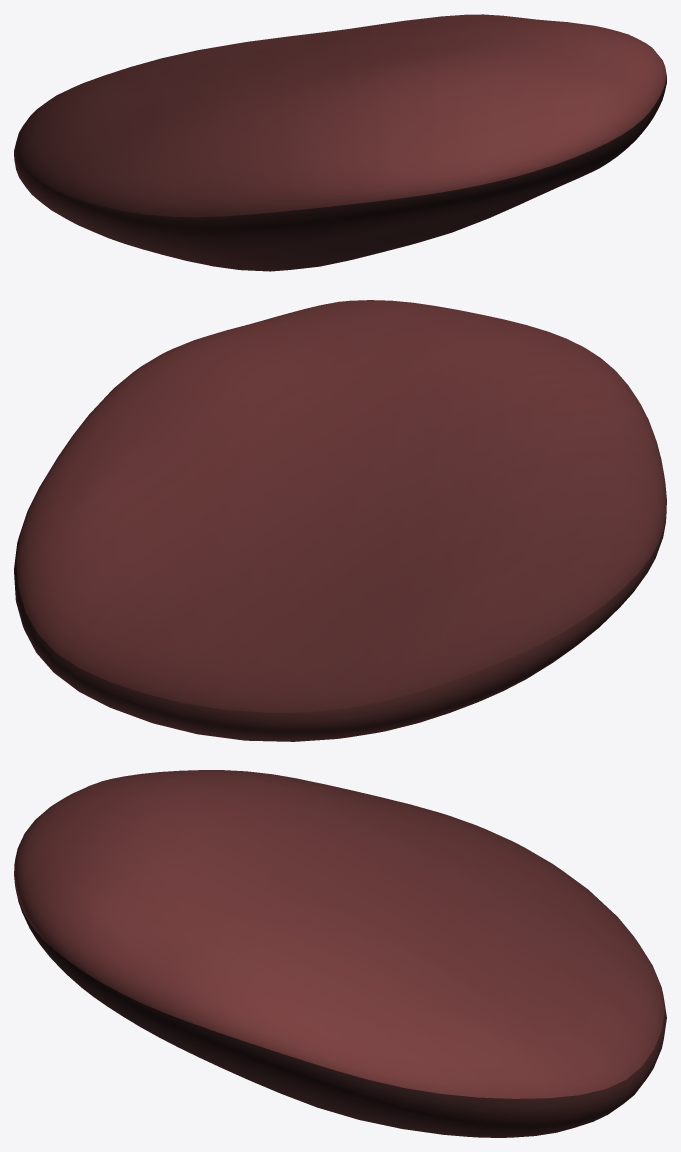
Rendered from common.glb.
3 renders of one model, top to bottom at view 1: azimuth 30°, elevation 25°; view 2: azimuth 150°, elevation 25°; view 3: azimuth 270°, elevation 25°, orthographic.
Visible parts, largest first — view 1: cbm_tong; view 2: cbm_tong; view 3: cbm_tong.
Boxes of the visible parts, <box> form: cbm_tong: <box>14,14,666,271</box>; cbm_tong: <box>14,300,666,741</box>; cbm_tong: <box>14,770,666,1137</box>.
Bounding box in the file's own units: 0.0657 × 0.0294 × 0.0663.
Materials: 1 (1 with a texture image).
